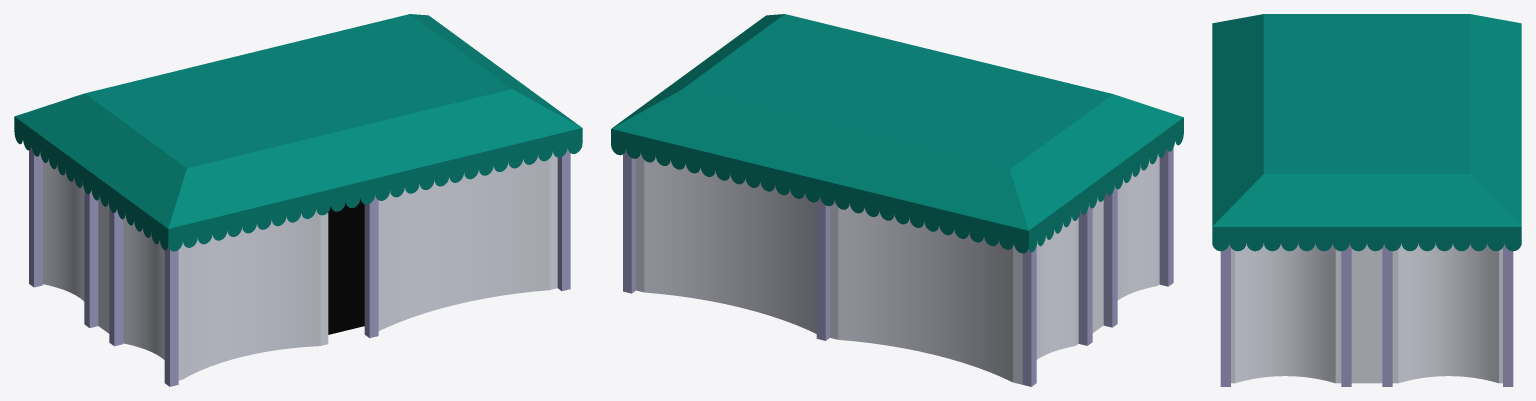
The model's file is tenteFermee.fbx.
3 views of the same model, side by side, from view 1: azimuth 30°, elevation 25°; view 2: azimuth 150°, elevation 25°; view 3: azimuth 270°, elevation 25° (orthographic).
Visible parts, largest first — view 1: mergedBlocks; view 2: mergedBlocks; view 3: mergedBlocks.
Part boxes in pixels (x1=…): mergedBlocks: x1=14, y1=14, x2=582, y2=386; mergedBlocks: x1=611, y1=14, x2=1183, y2=386; mergedBlocks: x1=1212, y1=14, x2=1521, y2=386.
Bounding box in the file's own units: 28 × 12.5 × 18.
